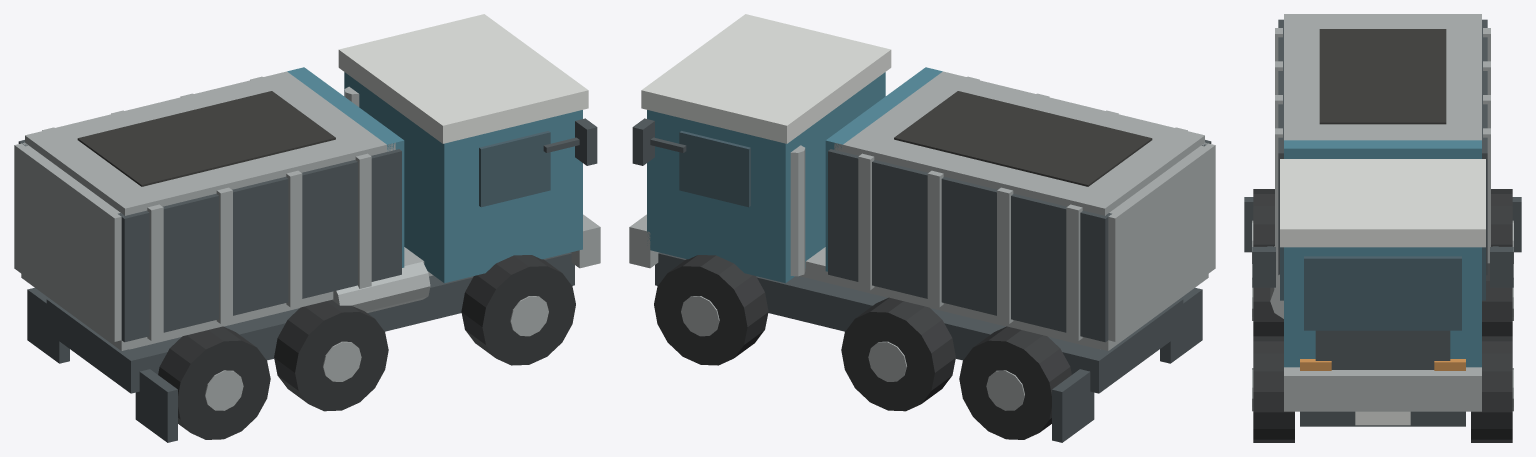
Rendered from coal-truck.glb.
The picture shows the model from 3 angles, left to right: view 1: azimuth 30°, elevation 25°; view 2: azimuth 150°, elevation 25°; view 3: azimuth 270°, elevation 25°; orthographic projection.
Parts seen in each view (by area): view 1: coal-truck; view 2: coal-truck; view 3: coal-truck.
Boxes of the visible parts, x1,y1,x2,y2 form: coal-truck: [14, 14, 600, 442]; coal-truck: [629, 14, 1215, 442]; coal-truck: [1244, 14, 1521, 442].
Size of the model in its own units: 1.4 by 0.68 by 0.7.
